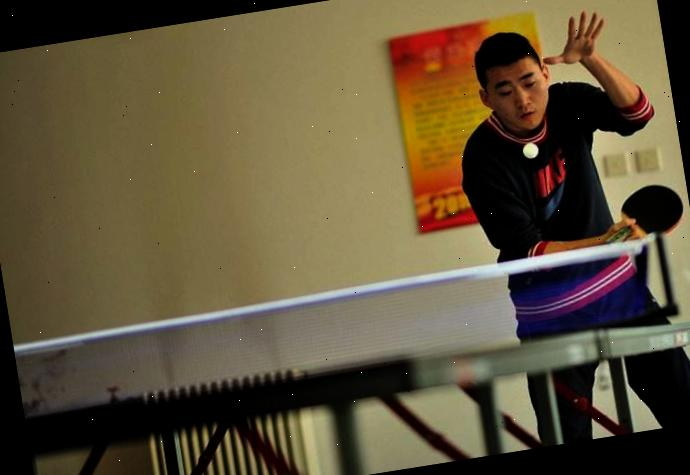ball: (516, 136, 542, 162)
